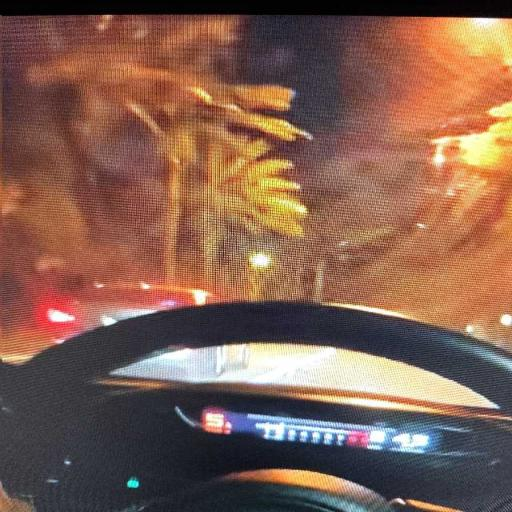car: (0, 303, 511, 511), (3, 274, 217, 343)
lane: (115, 344, 493, 407)
